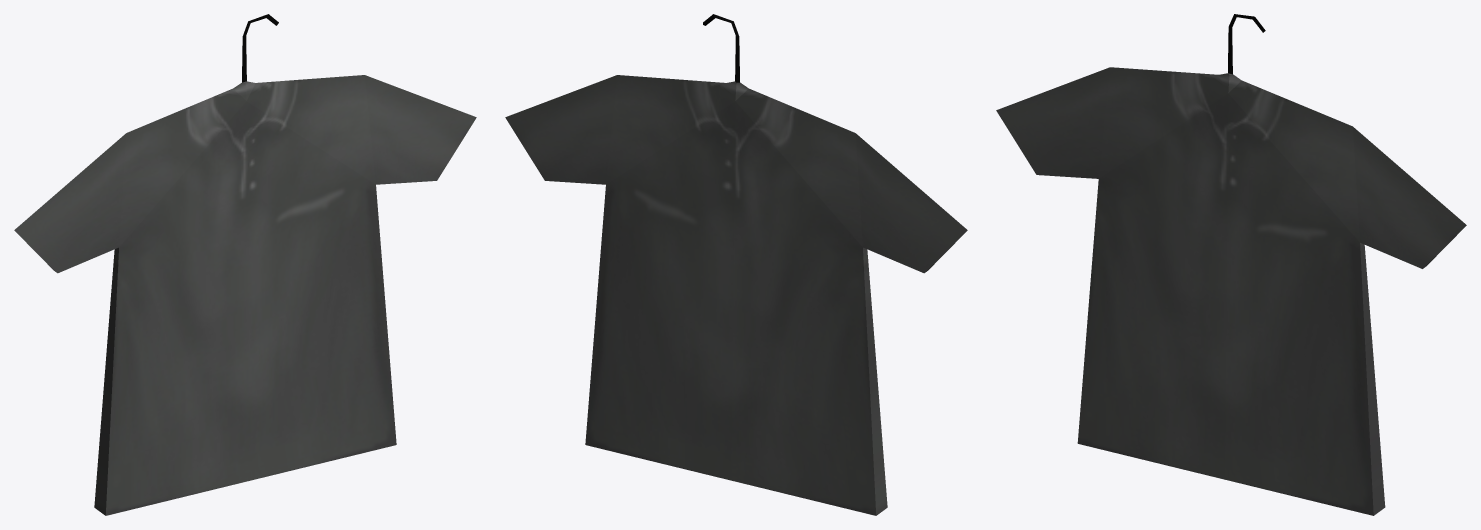
File: cloth0.dae
3 renders of one model, left to right at view 1: azimuth 30°, elevation 25°; view 2: azimuth 150°, elevation 25°; view 3: azimuth 330°, elevation 25°, orthographic.
Visible parts, largest first — view 1: LOD_0; view 2: LOD_0; view 3: LOD_0.
Part boxes in pixels (x1,y1,x2,y2): LOD_0: (14, 14, 476, 515); LOD_0: (505, 14, 967, 515); LOD_0: (996, 14, 1466, 515).
Bounding box in the file's own units: 3.18 × 0.1361 × 3.
